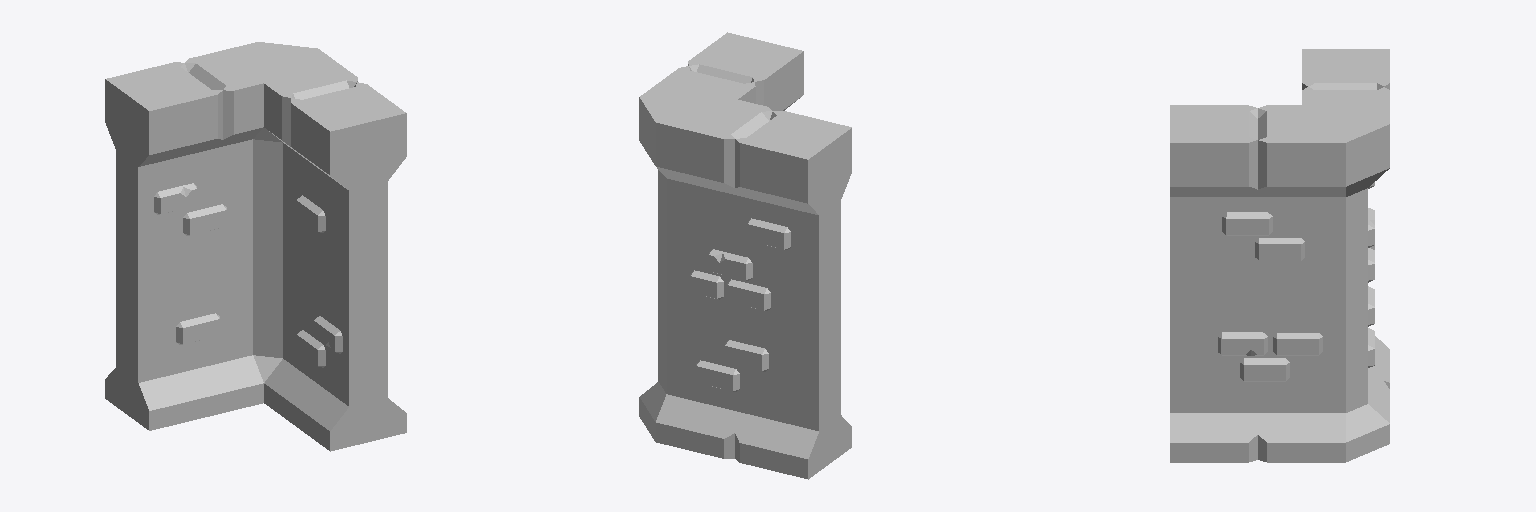
The model's file is wall_corner.obj.
3 views of the same model, side by side, from view 1: azimuth 30°, elevation 25°; view 2: azimuth 150°, elevation 25°; view 3: azimuth 270°, elevation 25° (orthographic).
Visible parts, largest first — view 1: wall_corner; view 2: wall_corner; view 3: wall_corner.
Boxes of the visible parts, <box> form: wall_corner: <box>105,42,406,451</box>; wall_corner: <box>639,32,851,479</box>; wall_corner: <box>1170,49,1389,462</box>.
Bounding box in the file's own units: 2.5 × 4 × 2.5.